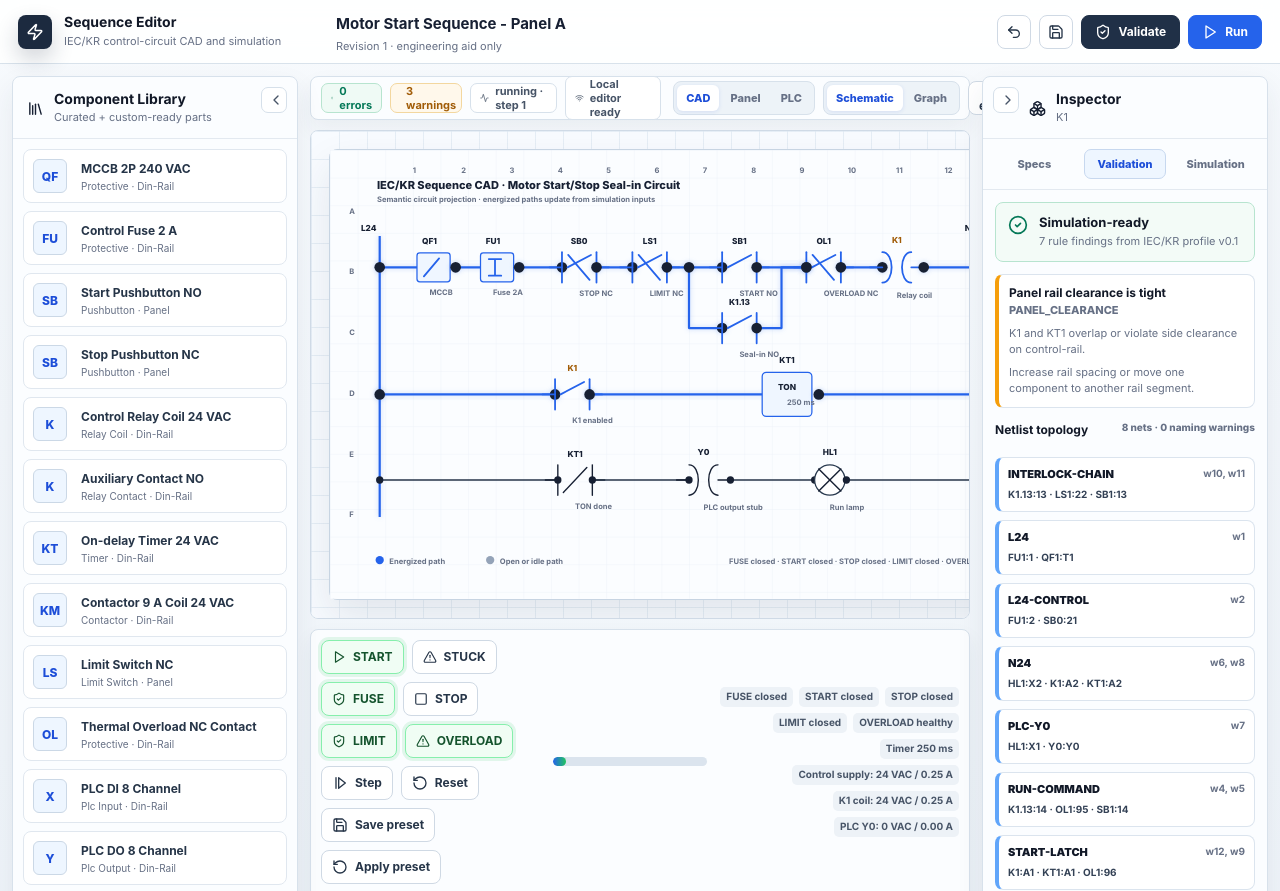
it: Sequence Editor app › renders a ladder logic projection tied to the starter circuit
Step 1. Click the button with aria-label "Show PLC workspace" → (791, 98), box [772, 85, 811, 111]
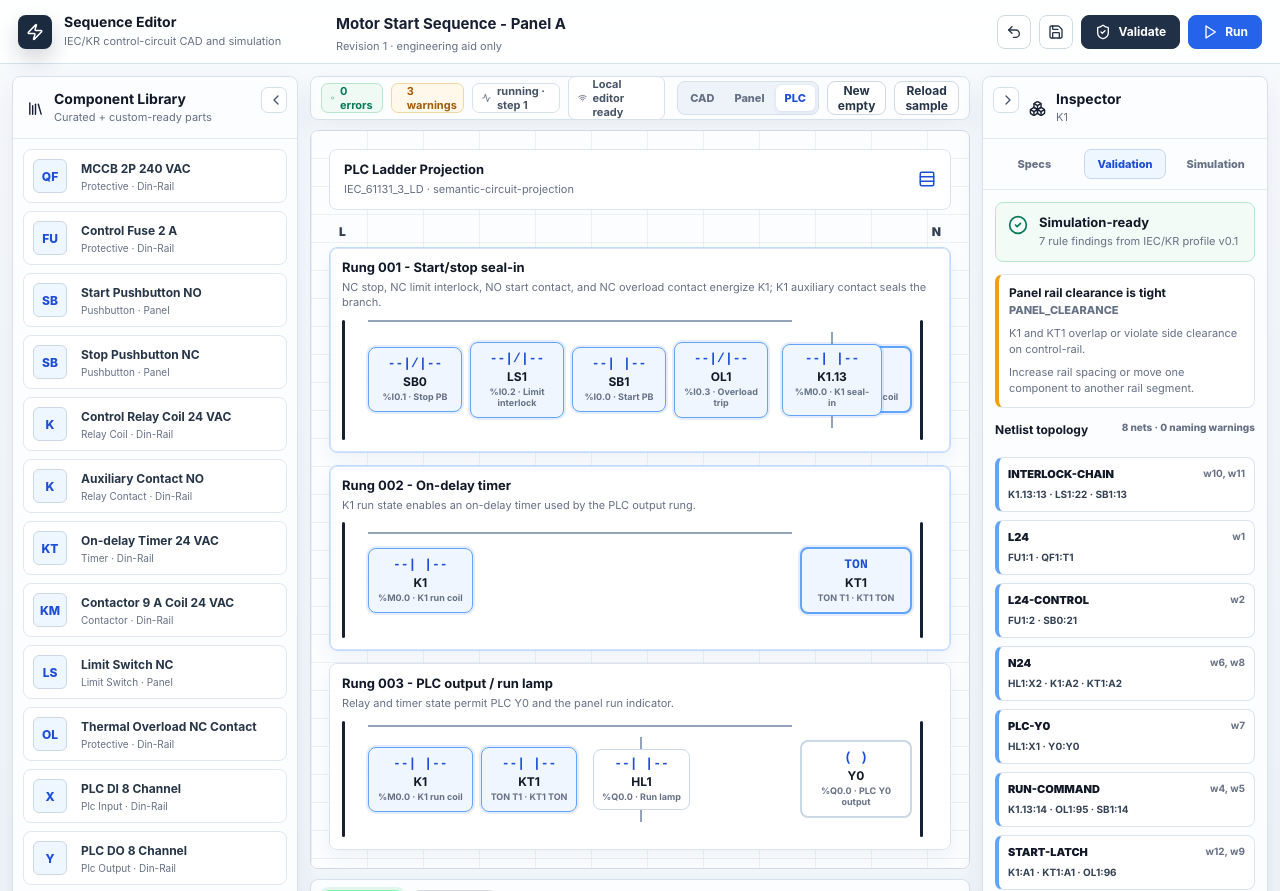
Expected: the text "PLC Ladder Projection" is shown, [344, 162, 484, 178]
Expected: the text "Rung 001 - Start/stop seal-in" is shown, [342, 260, 525, 276]
Expected: the text "Y0" is shown, [848, 768, 864, 783]
